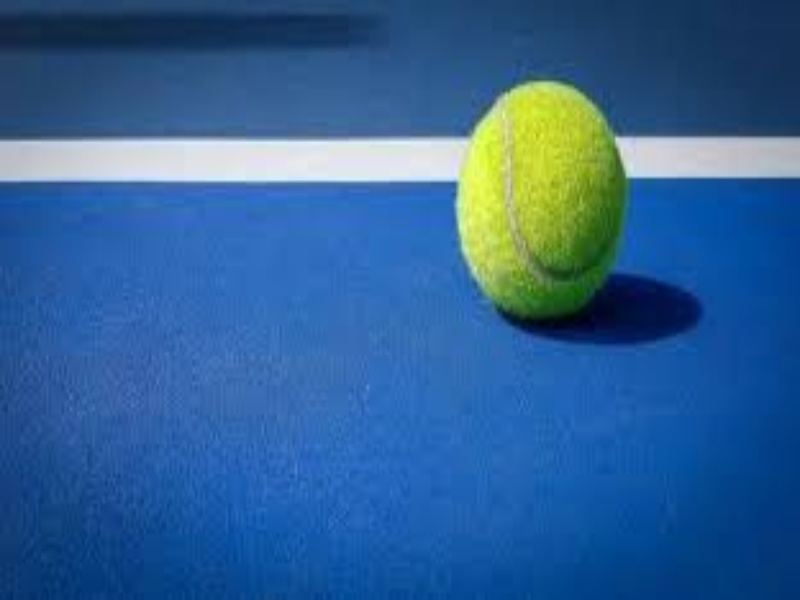tennis ball: (446, 61, 687, 351)
